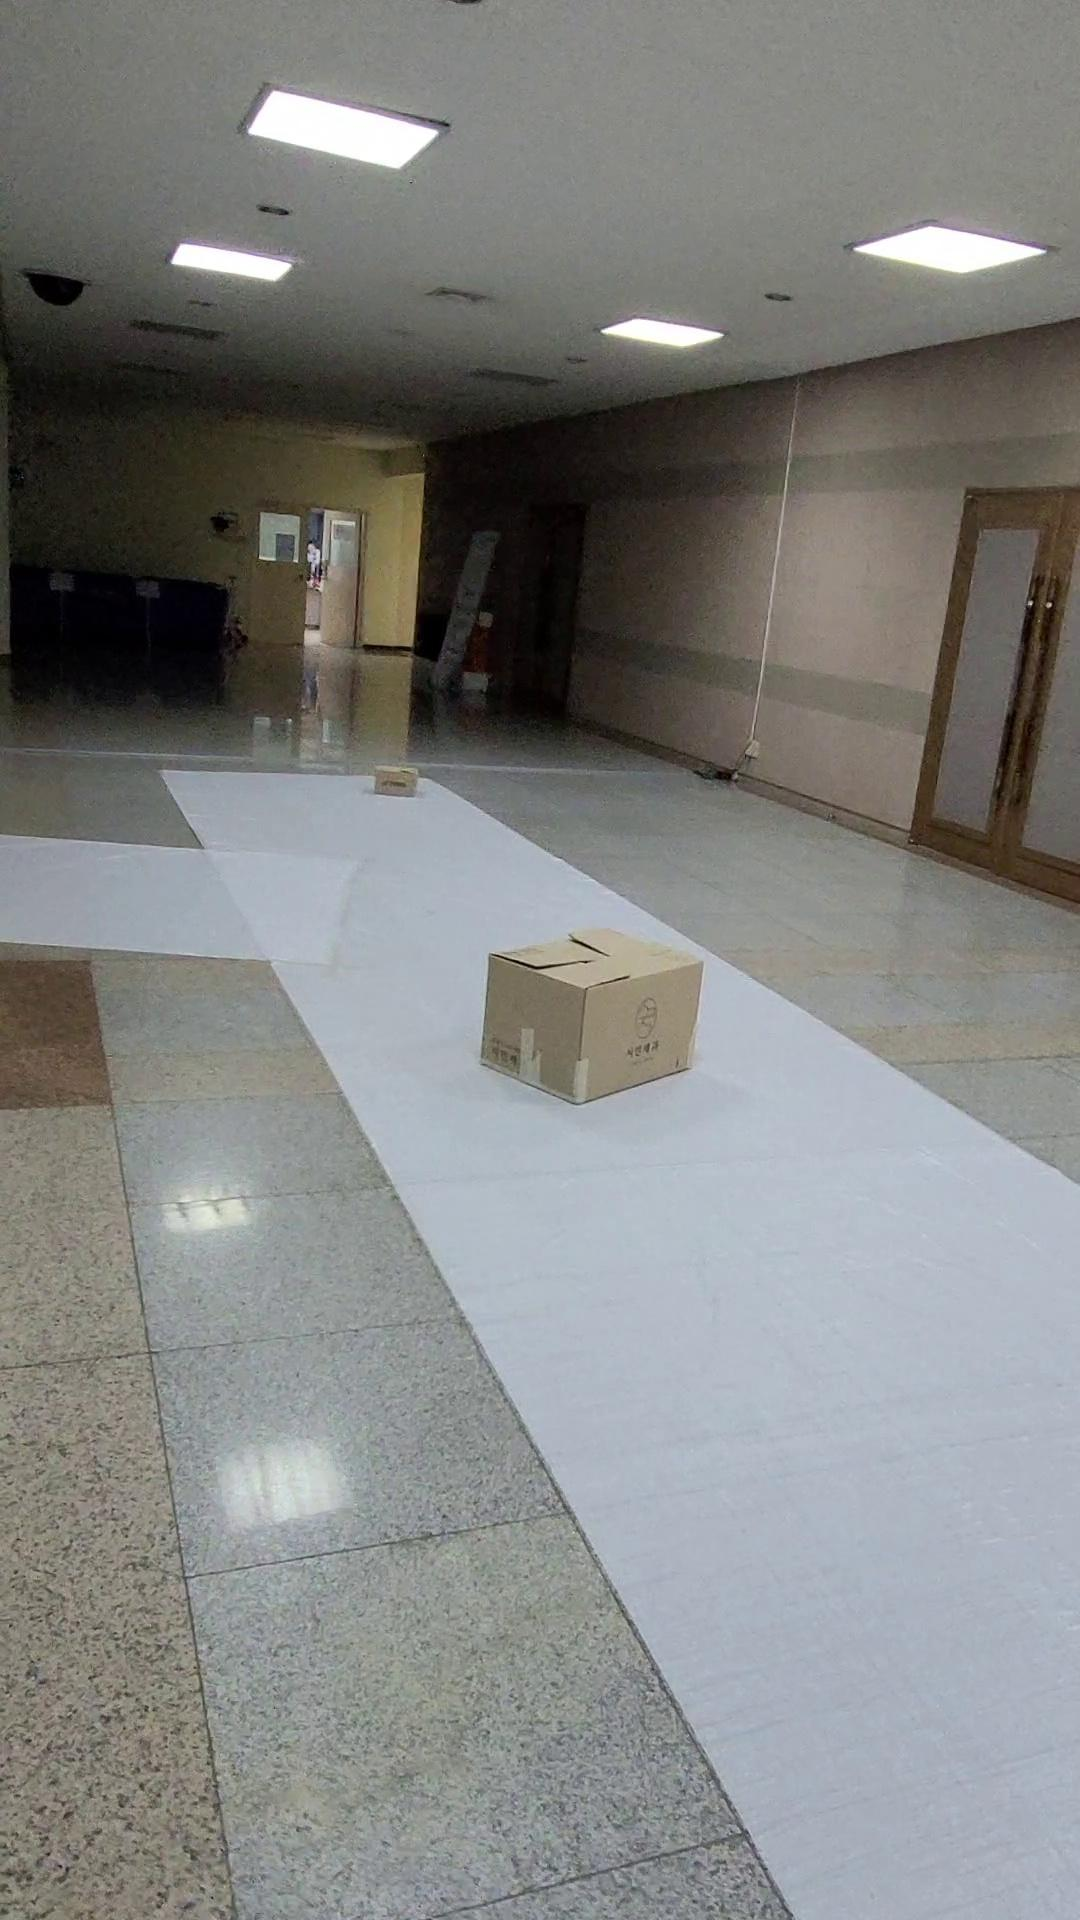Box: (454, 913, 732, 1133), (348, 745, 442, 810)
